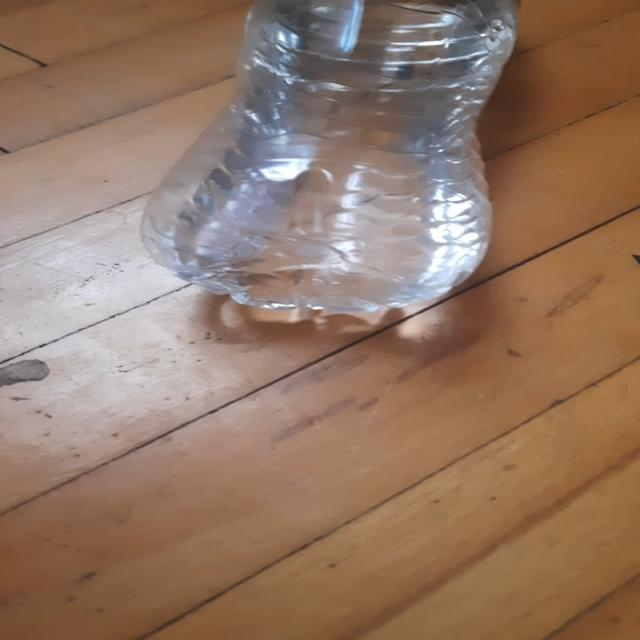Plastic: (139, 0, 522, 328)
